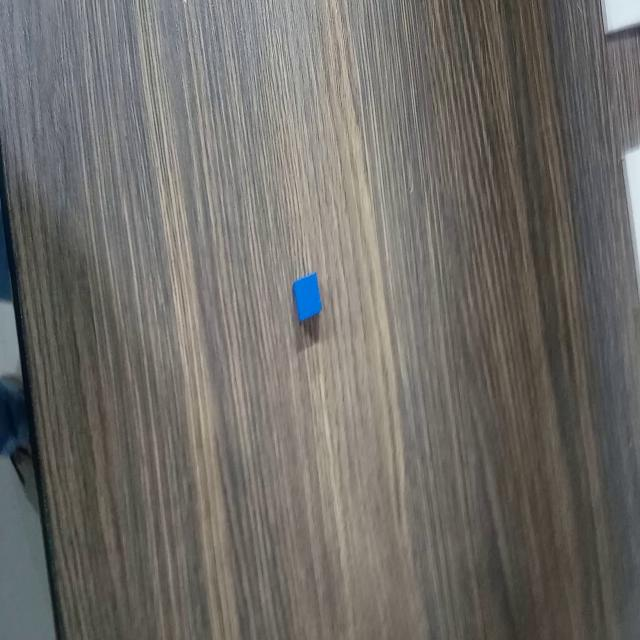cube: (291, 270, 323, 324)
